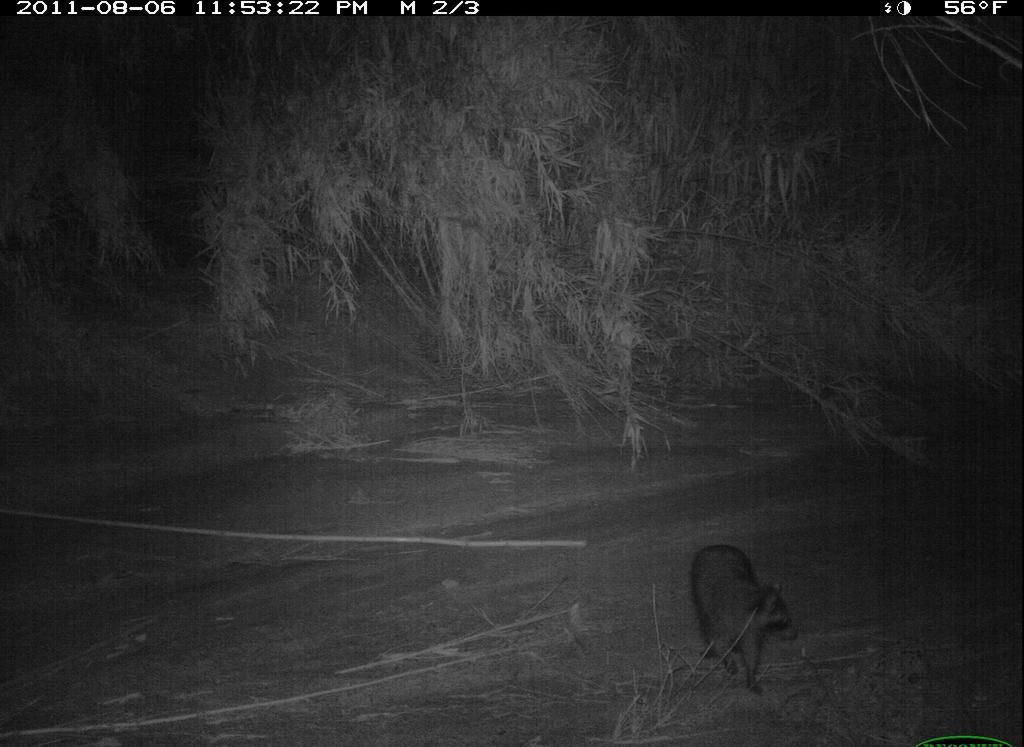raccoon: (685, 539, 803, 701)
